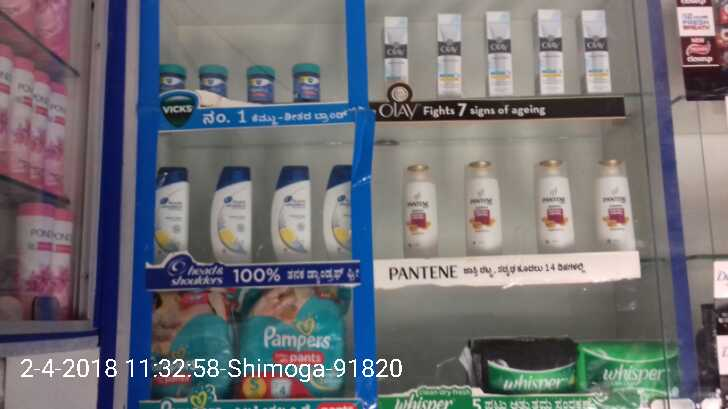vicks: (245, 65, 278, 102), (293, 62, 322, 101), (160, 62, 190, 91), (200, 67, 228, 97)
